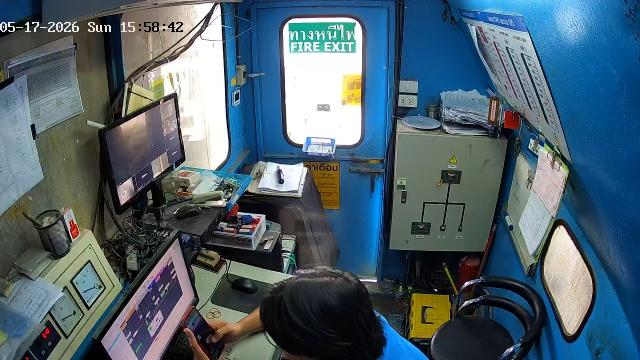Head: (266, 267, 383, 358)
People: (189, 267, 430, 360)
Phone: (180, 306, 227, 359)
